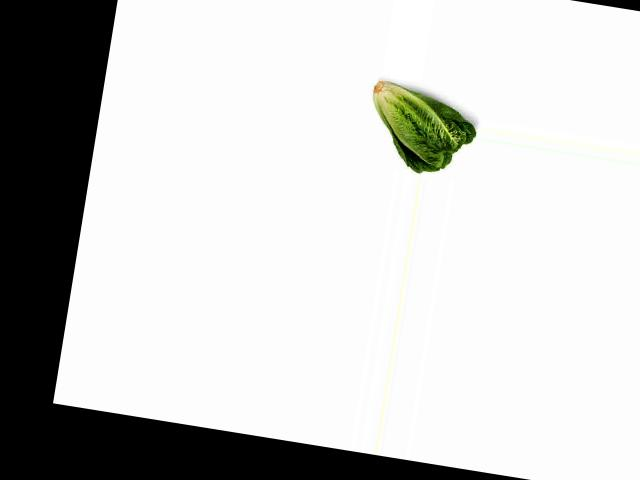lettuce: (359, 77, 481, 180)
